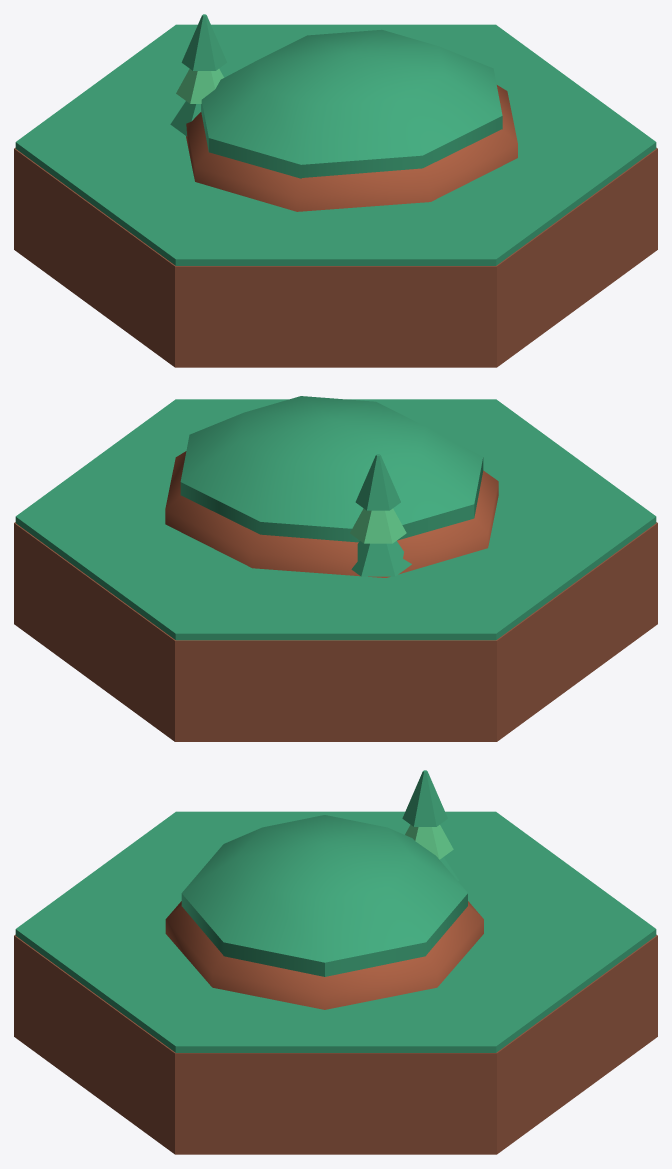
Rendered from grass-hill.glb.
3 renders of one model, top to bottom at view 1: azimuth 30°, elevation 25°; view 2: azimuth 150°, elevation 25°; view 3: azimuth 270°, elevation 25°, orthographic.
Parts seen in each view (by area): view 1: grass_hill; view 2: grass_hill; view 3: grass_hill.
Boxes of the visible parts, bbox=[...] form: grass_hill: bbox=[14, 14, 657, 367]; grass_hill: bbox=[14, 396, 657, 741]; grass_hill: bbox=[14, 770, 657, 1154].
Size of the model in its own units: 1 by 0.4612 by 1.15.
Materials: 1 (1 with a texture image).
